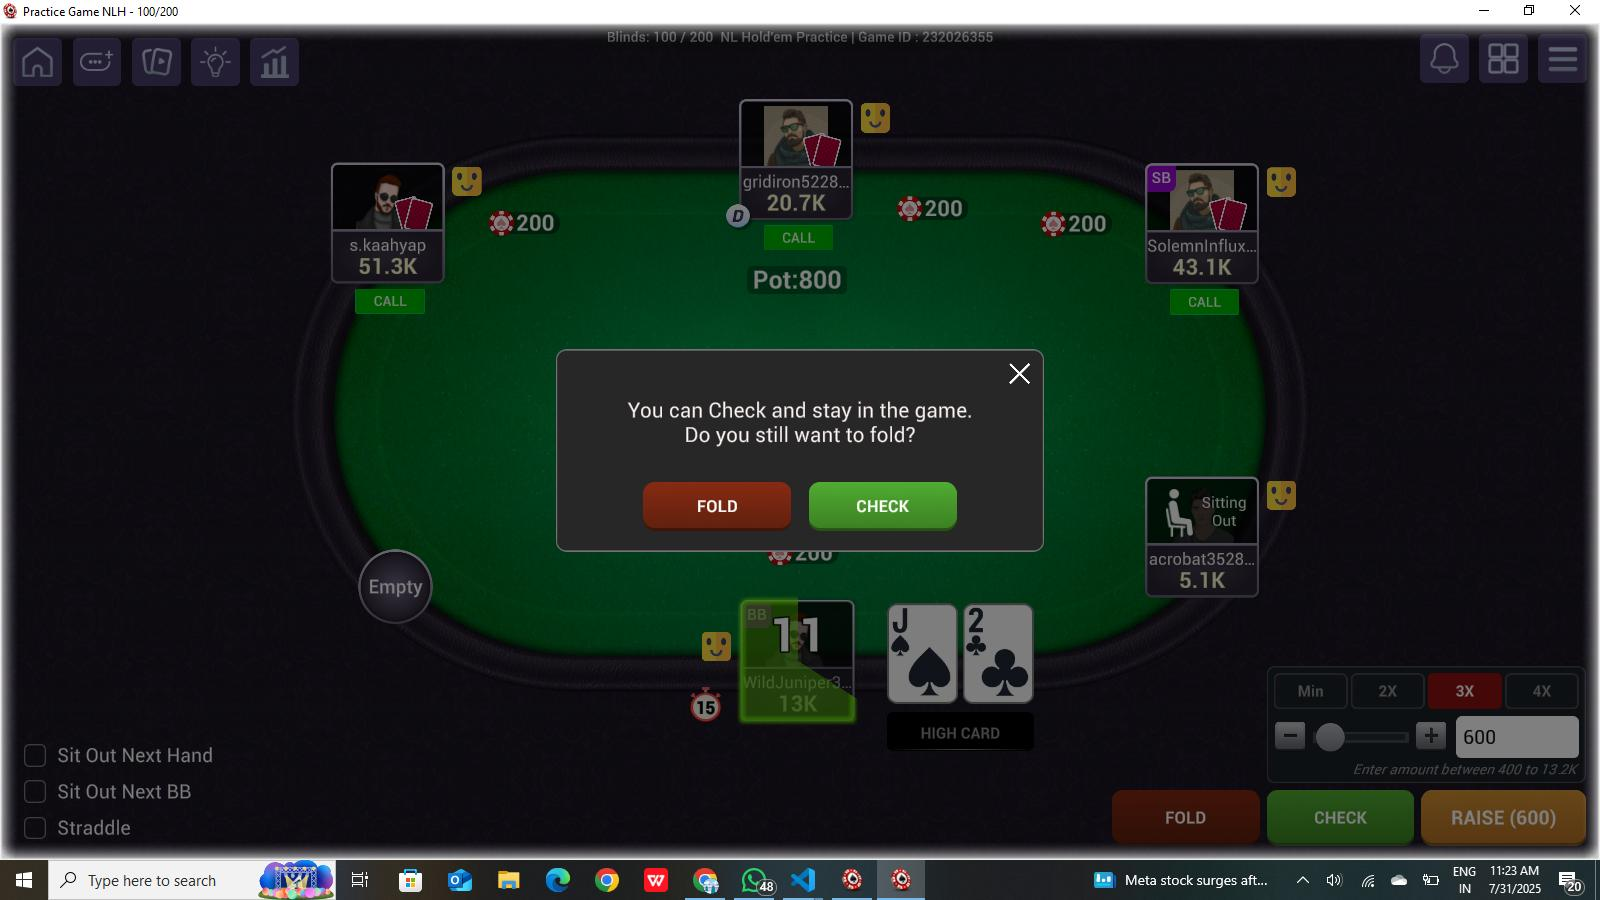button_check: (812, 484, 957, 533)
button_fold: (643, 480, 791, 530)
position_BB: (743, 600, 771, 629)
position_SB: (1146, 167, 1178, 193)
villian2_bet: (488, 209, 558, 238)
villian3_bet: (895, 197, 971, 222)
villian4_bet: (1036, 209, 1120, 243)
